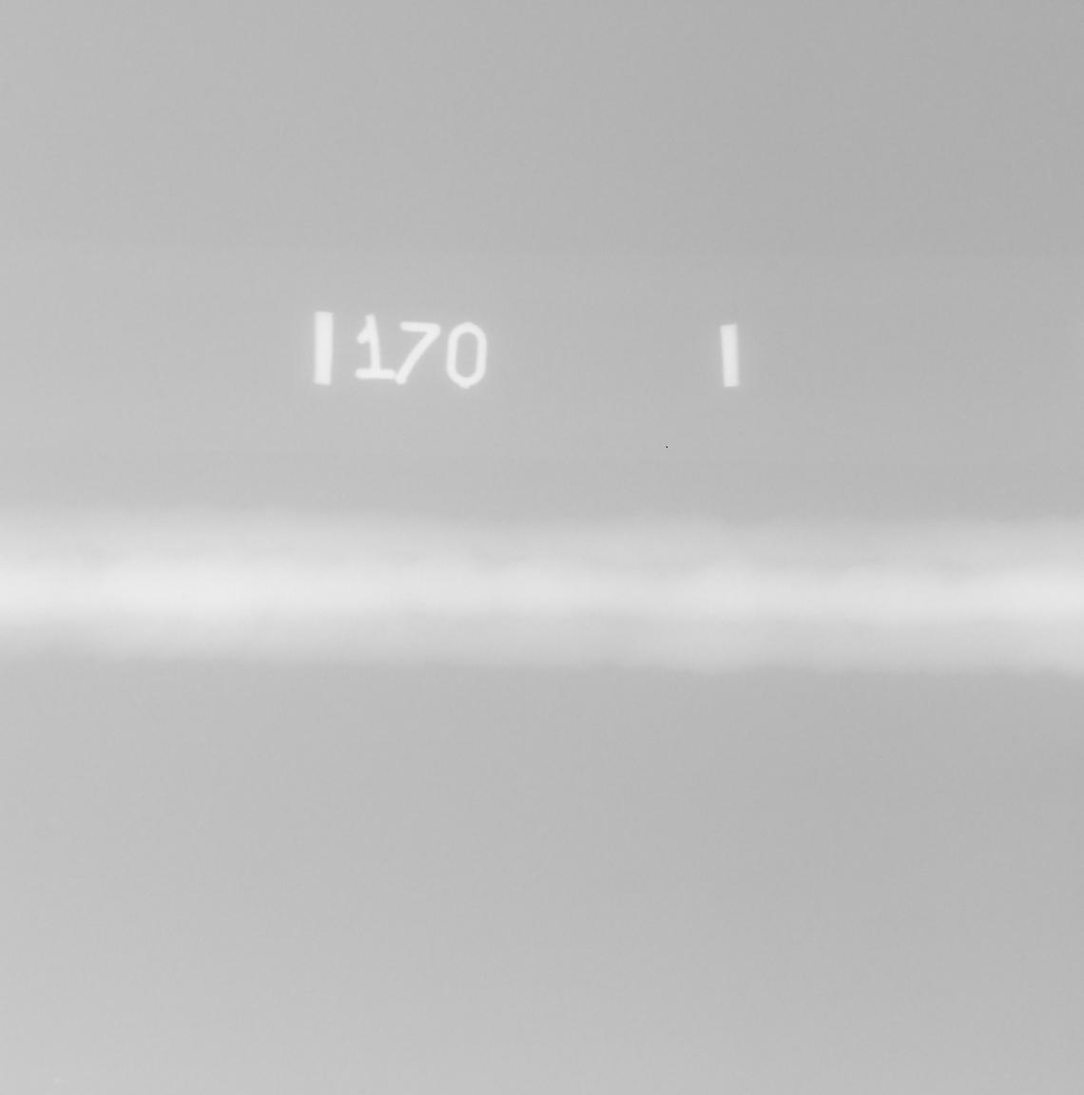Pore/Porosity: (194, 574, 200, 579), (880, 602, 885, 606), (994, 623, 1002, 625)
